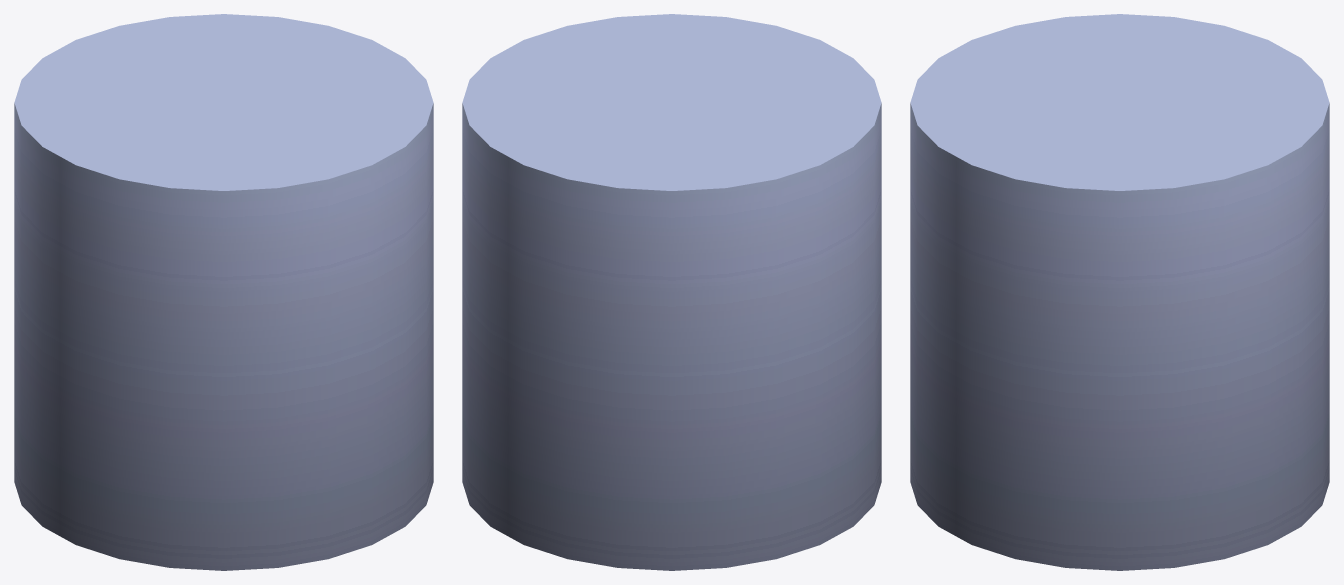
Rendered from shape-cylinder-detailed.glb.
3 renders of one model, left to right at view 1: azimuth 30°, elevation 25°; view 2: azimuth 150°, elevation 25°; view 3: azimuth 270°, elevation 25°, orthographic.
Visible parts, largest first — view 1: shape-cylinder-detailed; view 2: shape-cylinder-detailed; view 3: shape-cylinder-detailed.
Part boxes in pixels (box(x1,y1,x2,y2)): shape-cylinder-detailed: box(14, 14, 433, 570); shape-cylinder-detailed: box(462, 14, 881, 570); shape-cylinder-detailed: box(910, 14, 1329, 570).
Size of the model in its own units: 1 by 1 by 1.
1 material, 1 textured.
